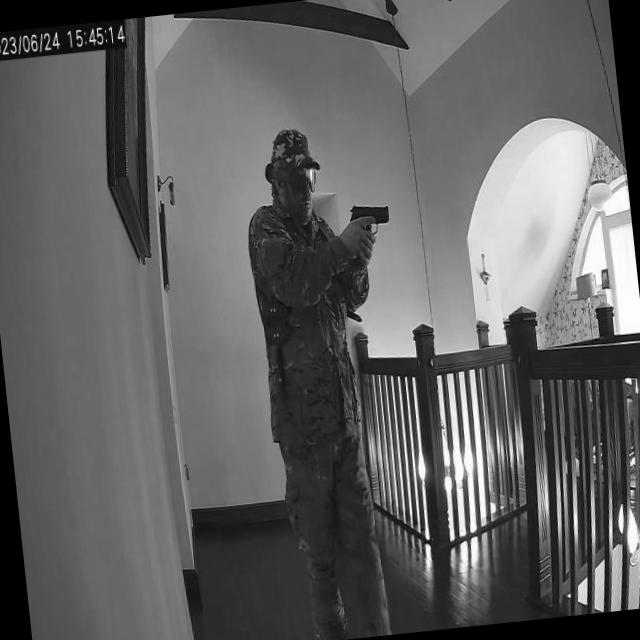gun: (347, 197, 395, 250)
person with a gun: (234, 119, 389, 640)
